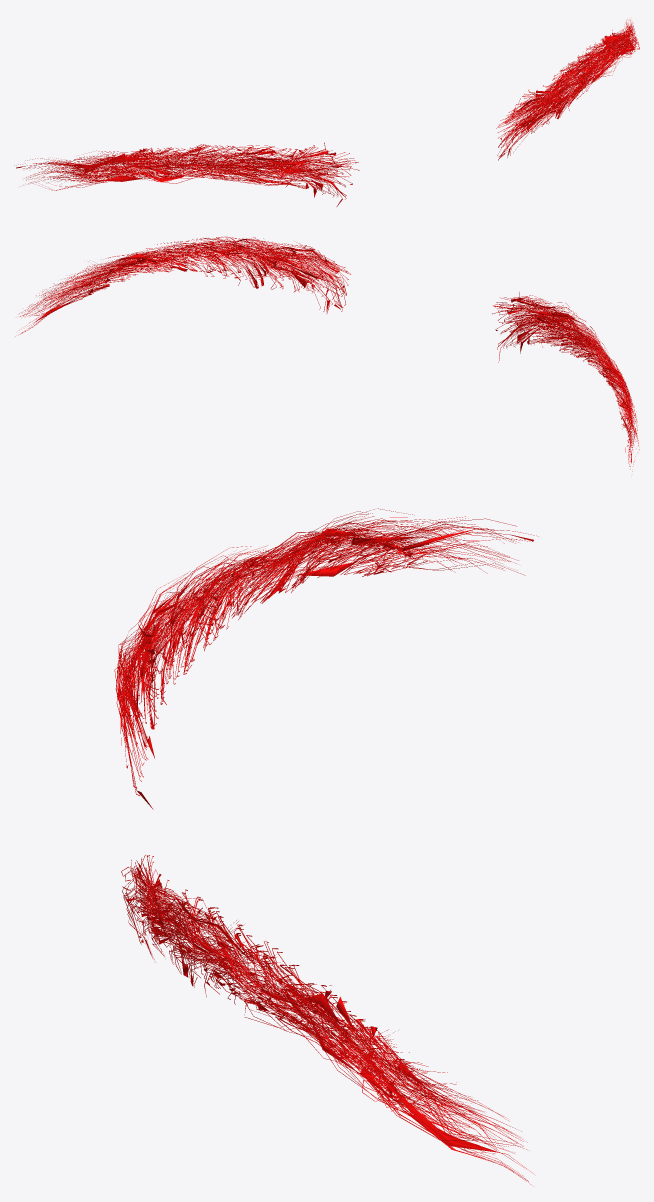
File: mindfront_eyebrows_05_M.glb
The picture shows the model from 3 angles, top to bottom: view 1: azimuth 30°, elevation 25°; view 2: azimuth 150°, elevation 25°; view 3: azimuth 270°, elevation 25°; orthographic projection. The views are drawn at different scales.
Bounding box in the file's own units: 0.1301 × 0.0157 × 0.039.
1 material, 1 textured.
